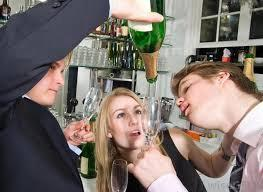Drunk: (174, 76, 217, 126), (108, 94, 144, 150)
